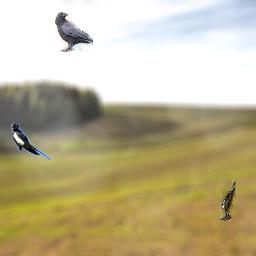Crow: (55, 12, 93, 52)
Swallow: (11, 123, 51, 160)
Woodpecker: (220, 181, 236, 221)
